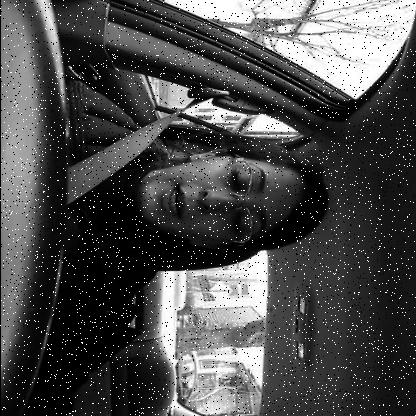seatbelt: (0, 82, 332, 278)
